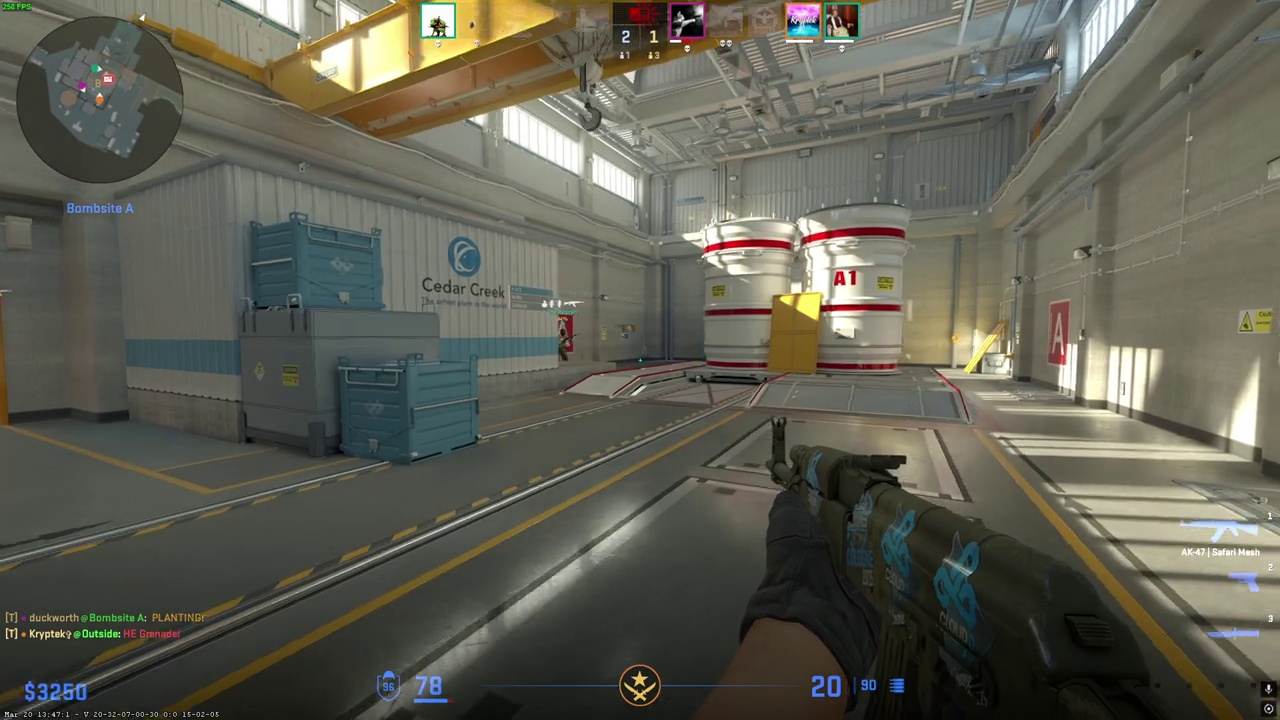Terrorist: (557, 328, 571, 361)
